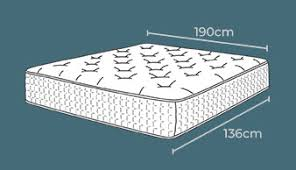bed-matress: (24, 43, 272, 140)
